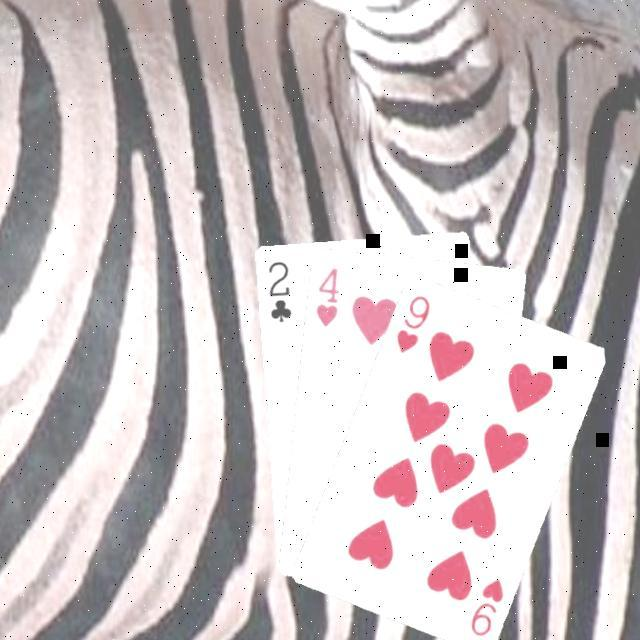2C: (266, 259, 296, 327)
4H: (314, 266, 344, 332)
9H: (394, 292, 435, 358), (468, 576, 509, 640)
